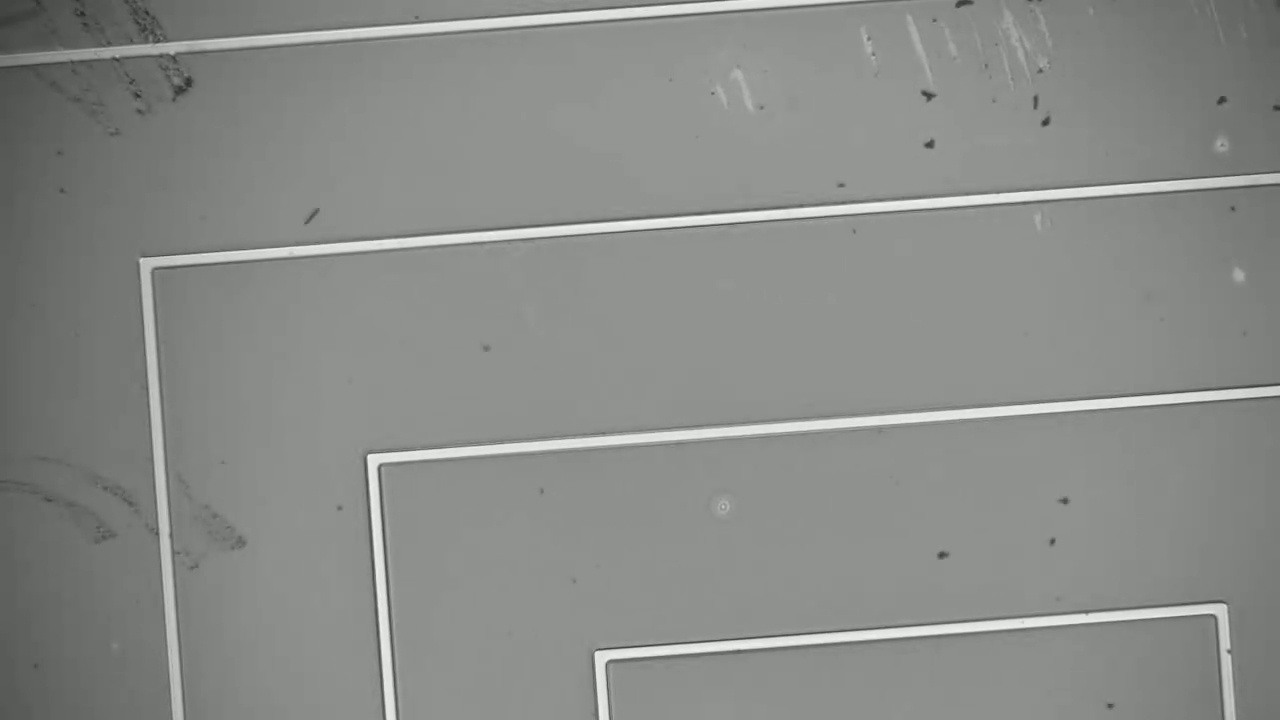scratch: (21, 7, 220, 127)
